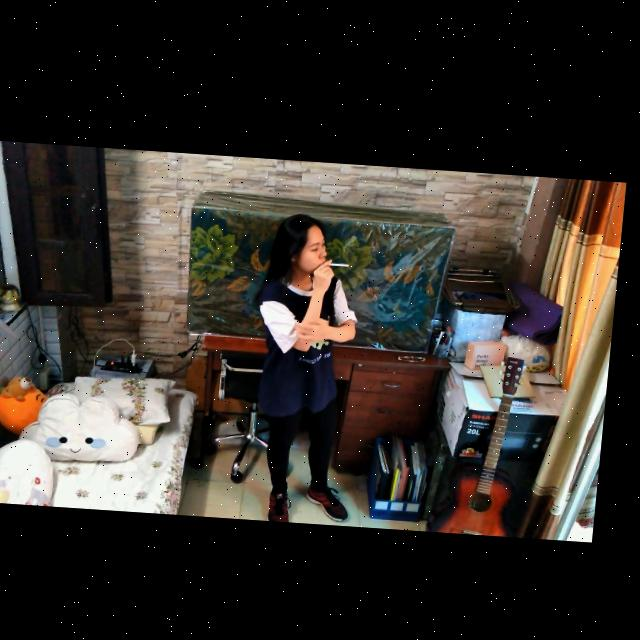cigarette: (333, 257, 354, 263)
